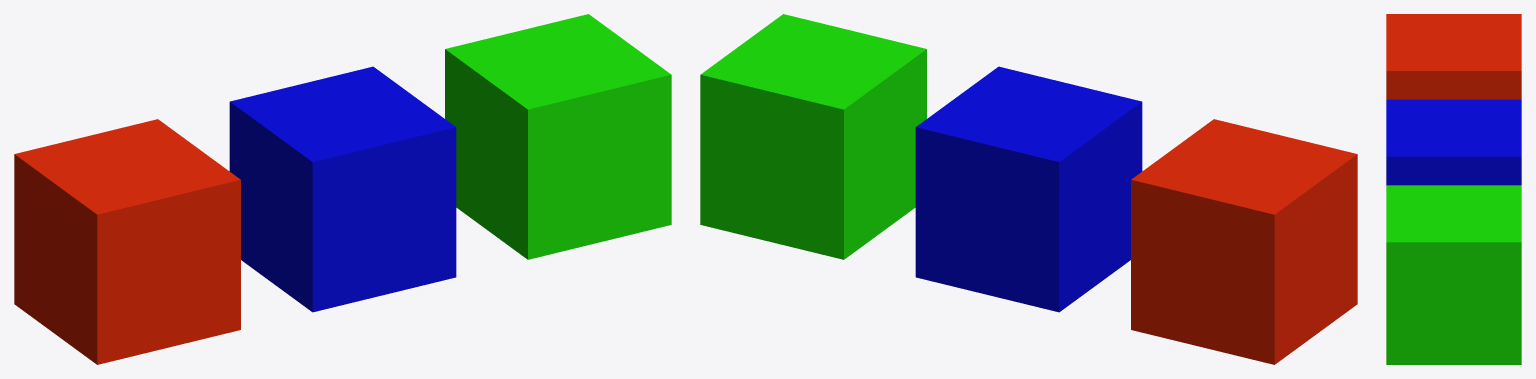
3 views of the same model, side by side, from view 1: azimuth 30°, elevation 25°; view 2: azimuth 150°, elevation 25°; view 3: azimuth 270°, elevation 25° (orthographic). The views are drawn at different scales.
Visible parts, largest first — view 1: Cube, Cube.001, Cube.002; view 2: Cube, Cube.001, Cube.002; view 3: Cube.002, Cube.001, Cube.
Boxes of the visible parts, left/top/right/bottom form: Cube: left=14, top=119, right=240, bottom=364; Cube.001: left=229, top=66, right=456, bottom=312; Cube.002: left=445, top=14, right=671, bottom=259; Cube: left=1131, top=119, right=1357, bottom=364; Cube.001: left=915, top=66, right=1142, bottom=312; Cube.002: left=700, top=14, right=926, bottom=259; Cube.002: left=1386, top=185, right=1521, bottom=364; Cube.001: left=1386, top=99, right=1521, bottom=185; Cube: left=1386, top=14, right=1521, bottom=99.
Size of what is drawn, in the model's own units: 4 by 1 by 1.
